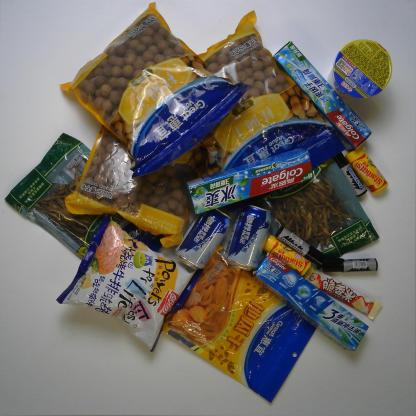Alcohol: (174, 207, 233, 273), (221, 203, 273, 273)
Candy: (343, 146, 391, 197), (262, 233, 314, 278)
Chocolate: (304, 264, 386, 322)
Dried Food: (56, 1, 253, 180), (195, 8, 348, 178), (3, 129, 166, 262), (61, 114, 192, 250), (244, 154, 384, 258)
Dried Fruit: (161, 242, 319, 406)
Instant Noodles: (332, 34, 395, 101)
Personal Hygiene: (253, 250, 371, 354), (270, 39, 373, 153), (184, 148, 316, 216)
Puffed Food: (52, 204, 206, 356)
Stationery: (273, 223, 328, 270), (331, 148, 369, 201), (318, 257, 380, 274)
